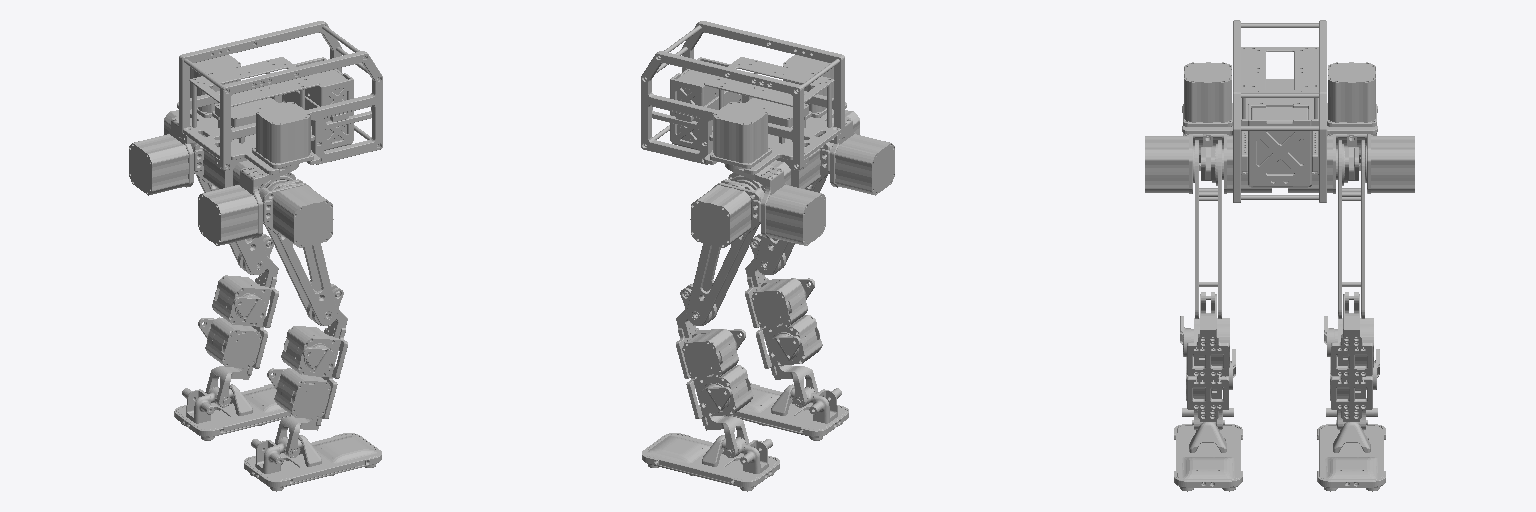
robot.urdf — pai_12dof_v2_0312:
<?xml version="1.0" encoding="utf-8"?>
<!-- This URDF was automatically created by SolidWorks to URDF Exporter! Originally created by [author] ([email redacted]) 
     Commit Version: 1.6.0-4-g7f85cfe  Build Version: 1.6.7995.38578
     For more information, please see http://wiki.ros.org/sw_urdf_exporter -->
<robot
  name="pai_12dof_v2_0312">
  <mujoco>
  <compiler 
    meshdir="../meshes/" 
    balanceinertia="true" 
    discardvisual="false" />
  </mujoco>
  <link
    name="base_link">
    <inertial>
      <origin
        xyz="0.036389 -1.95E-05 0.0235966"
        rpy="0 0 0" />
      <mass
        value="1.4140796" />
      <inertia
        ixx="0.0052145"
        ixy="3.8E-06"
        ixz="0.0003997"
        iyy="0.0041695"
        iyz="6E-07"
        izz="0.007904" />
    </inertial>
    <visual>
      <origin
        xyz="0 0 0"
        rpy="0 0 0" />
      <geometry>
        <mesh
          filename="../meshes/base_link.STL" />
      </geometry>
      <material
        name="">
        <color
          rgba="0.75294 0.75294 0.75294 1" />
      </material>
    </visual>
    <collision>
      <origin
        xyz="0 0 0"
        rpy="0 0 0" />
      <geometry>
        <box size = "0.08 0.08 0.08"/>
      </geometry>
    </collision>
  </link>
  <link
    name="l_hip_yaw_link">
    <inertial>
      <origin
        xyz="-0.0578492 0 -0.0416749"
        rpy="0 0 0" />
      <mass
        value="0.19436" />
      <inertia
        ixx="0.0002521"
        ixy="0"
        ixz="-0.0001456"
        iyy="0.0004324"
        iyz="0"
        izz="0.0003133" />
    </inertial>
    <visual>
      <origin
        xyz="0 0 0"
        rpy="0 0 0" />
      <geometry>
        <mesh
          filename="../meshes/l_hip_yaw_link.STL" />
      </geometry>
      <material
        name="">
        <color
          rgba="0.75294 0.75294 0.75294 1" />
      </material>
    </visual>
    <collision>
      <origin
        xyz="0 0 0"
        rpy="0 0 0" />
      <geometry>
        <box size = "0.01 0.01 0.01"/>
      </geometry>
    </collision>
  </link>
  <joint
    name="left_hip_yaw_joint"
    type="revolute">
    <origin
      xyz="0 0.075 0"
      rpy="0 0 0" />
    <parent
      link="base_link" />
    <child
      link="l_hip_yaw_link" />
    <axis
      xyz="0 0 1" />
    <limit
      lower="-0.6"
      upper="1.57"
      effort="21"
      velocity="21" />
  </joint>
  <link
    name="l_hip_roll_link">
    <inertial>
      <origin
        xyz="0.0373373 -0.0004323 0.0004287"
        rpy="0 0 0" />
      <mass
        value="0.74952" />
      <inertia
        ixx="0.0013819"
        ixy="-1.6E-06"
        ixz="5.4E-06"
        iyy="0.0003384"
        iyz="2E-07"
        izz="0.0014434" />
    </inertial>
    <visual>
      <origin
        xyz="0 0 0"
        rpy="0 0 0" />
      <geometry>
        <mesh
          filename="../meshes/l_hip_roll_link.STL" />
      </geometry>
      <material
        name="">
        <color
          rgba="0.75294 0.75294 0.75294 1" />
      </material>
    </visual>
    <collision>
      <origin
        xyz="0 0 0"
        rpy="0 0 0" />
      <geometry>
        <box size = "0.01 0.01 0.01"/>
      </geometry>
    </collision>
  </link>
  <joint
    name="left_hip_roll_joint"
    type="revolute">
    <origin
      xyz="-0.04 0 -0.05"
      rpy="0 0 0" />
    <parent
      link="l_hip_yaw_link" />
    <child
      link="l_hip_roll_link" />
    <axis
      xyz="1 0 0" />
    <limit
      lower="-0.5"
      upper="1.0"
      effort="21"
      velocity="21" />
  </joint>
  <link
    name="l_thigh_link">
    <inertial>
      <origin
        xyz="0.004364 0.0013366 -0.046554"
        rpy="0 0 0" />
      <mass
        value="0.1443603" />
      <inertia
        ixx="0.0004365"
        ixy="8E-07"
        ixz="3.66E-05"
        iyy="0.0004422"
        iyz="-9E-06"
        izz="4.91E-05" />
    </inertial>
    <visual>
      <origin
        xyz="0 0 0"
        rpy="0 0 0" />
      <geometry>
        <mesh
          filename="../meshes/l_thigh_link.STL" />
      </geometry>
      <material
        name="">
        <color
          rgba="0.75294 0.75294 0.75294 1" />
      </material>
    </visual>
    <collision>
      <origin
        xyz="0 0 0"
        rpy="0 0 0" />
      <geometry>
        <box size = "0.01 0.01 0.01"/>
      </geometry>
    </collision>
  </link>
  <joint
    name="left_hip_pitch_joint"
    type="revolute">
    <origin
      xyz="0.04 0 0"
      rpy="0 -0.235 0" />
    <parent
      link="l_hip_roll_link" />
    <child
      link="l_thigh_link" />
    <axis
      xyz="0 1 0" />
    <limit
      lower="-1.57"
      upper="0.8"
      effort="21"
      velocity="21" />
  </joint>
  <link
    name="l_calf_link">
    <inertial>
      <origin
        xyz="0.0035389 0 -0.07142"
        rpy="0 0 0" />
      <mass
        value="0.768122" />
      <inertia
        ixx="0.0010371"
        ixy="0"
        ixz="-9.4E-06"
        iyy="0.0010674"
        iyz="-3.3E-06"
        izz="0.0002151" />
    </inertial>
    <visual>
      <origin
        xyz="0 0 0"
        rpy="0 0 0" />
      <geometry>
        <mesh
          filename="../meshes/l_calf_link.STL" />
      </geometry>
      <material
        name="">
        <color
          rgba="0.75294 0.75294 0.75294 1" />
      </material>
    </visual>
    <collision>
      <origin
        xyz="0 0 0"
        rpy="0 0 0" />
      <geometry>
        <box size = "0.01 0.01 0.01"/>
      </geometry>
    </collision>
  </link>
  <joint
    name="left_knee_joint"
    type="revolute">
    <origin
      xyz="0.014 0 -0.14935"
      rpy="0 0.526 0" />
    <parent
      link="l_thigh_link" />
    <child
      link="l_calf_link" />
    <axis
      xyz="0 -1 0" />
    <limit
      lower="-1.57"
      upper="0.526"
      effort="21"
      velocity="21" />
  </joint>
  <link
    name="l_ankle_pitch_link">
    <inertial>
      <origin
        xyz="0 0 0"
        rpy="0 0 0" />
      <mass
        value="0.0088647" />
      <inertia
        ixx="2E-07"
        ixy="0"
        ixz="0"
        iyy="1E-06"
        iyz="0"
        izz="1E-06" />
    </inertial>
    <visual>
      <origin
        xyz="0 0 0"
        rpy="0 0 0" />
      <geometry>
        <mesh
          filename="../meshes/l_ankle_pitch_link.STL" />
      </geometry>
      <material
        name="">
        <color
          rgba="0.75294 0.75294 0.75294 1" />
      </material>
    </visual>
    <collision>
      <origin
        xyz="0 0 0"
        rpy="0 0 0" />
      <geometry>
        <box size = "0.01 0.01 0.01"/>
      </geometry>
    </collision>
  </link>
  <joint
    name="left_ankle_pitch_joint"
    type="revolute">
    <origin
      xyz="0.0025 0 -0.15845"
      rpy="0 -0.298 0" />
    <parent
      link="l_calf_link" />
    <child
      link="l_ankle_pitch_link" />
    <axis
      xyz="0 1 0" />
    <limit
      lower="-1.2"
      upper="0.8"
      effort="21"
      velocity="21" />
  </joint>
  <link
    name="l_ankle_roll_link">
    <inertial>
      <origin
        xyz="0.0240775 0 -0.018709"
        rpy="0 0 0" />
      <mass
        value="0.1728932" />
      <inertia
        ixx="7.78E-05"
        ixy="0"
        ixz="2.11E-05"
        iyy="0.0003287"
        iyz="0"
        izz="0.0003779" />
    </inertial>
    <visual>
      <origin
        xyz="0 0 0"
        rpy="0 0 0" />
      <geometry>
        <mesh
          filename="../meshes/l_ankle_roll_link.STL" />
      </geometry>
      <material
        name="">
        <color
          rgba="0.75294 0.75294 0.75294 1" />
      </material>
    </visual>
    <collision>
      <origin
        xyz="0 0 0"
        rpy="0 0 0" />
      <geometry>
        <mesh
          filename="../meshes/l_ankle_roll_link.STL" />
      </geometry>
    </collision>
  </link>
  <joint
    name="left_ankle_roll_joint"
    type="revolute">
    <origin
      xyz="0 0 0"
      rpy="0 0 0" />
    <parent
      link="l_ankle_pitch_link" />
    <child
      link="l_ankle_roll_link" />
    <axis
      xyz="1 0 0" />
    <limit
      lower="-0.4"
      upper="0.4"
      effort="21"
      velocity="21" />
  </joint>
  <link
    name="r_hip_yaw_link">
    <inertial>
      <origin
        xyz="-0.0578492 0 -0.0416749"
        rpy="0 0 0" />
      <mass
        value="0.3887654" />
      <inertia
        ixx="0.0002521"
        ixy="0"
        ixz="-0.0001456"
        iyy="0.0004324"
        iyz="0"
        izz="0.0003133" />
    </inertial>
    <visual>
      <origin
        xyz="0 0 0"
        rpy="0 0 0" />
      <geometry>
        <mesh
          filename="../meshes/r_hip_yaw_link.STL" />
      </geometry>
      <material
        name="">
        <color
          rgba="0.75294 0.75294 0.75294 1" />
      </material>
    </visual>
    <collision>
      <origin
        xyz="0 0 0"
        rpy="0 0 0" />
      <geometry>
        <box size = "0.01 0.01 0.01"/>
      </geometry>
    </collision>
  </link>
  <joint
    name="right_hip_yaw_joint"
    type="revolute">
    <origin
      xyz="0 -0.075 0"
      rpy="0 0 0" />
    <parent
      link="base_link" />
    <child
      link="r_hip_yaw_link" />
    <axis
      xyz="0 0 1" />
    <limit
      lower="-1.6"
      upper="0.75"
      effort="21"
      velocity="21" />
  </joint>
  <link
    name="r_hip_roll_link">
    <inertial>
      <origin
        xyz="0.0373373 0.0004272 0.0004287"
        rpy="0 0 0" />
      <mass
        value="0.7495221" />
      <inertia
        ixx="0.0013819"
        ixy="-3E-06"
        ixz="5.4E-06"
        iyy="0.0003384"
        iyz="6E-07"
        izz="0.0014434" />
    </inertial>
    <visual>
      <origin
        xyz="0 0 0"
        rpy="0 0 0" />
      <geometry>
        <mesh
          filename="../meshes/r_hip_roll_link.STL" />
      </geometry>
      <material
        name="">
        <color
          rgba="0.75294 0.75294 0.75294 1" />
      </material>
    </visual>
    <collision>
      <origin
        xyz="0 0 0"
        rpy="0 0 0" />
      <geometry>
        <box size = "0.01 0.01 0.01"/>
      </geometry>
    </collision>
  </link>
  <joint
    name="right_hip_roll_joint"
    type="revolute">
    <origin
      xyz="-0.04 0 -0.05"
      rpy="0 0 0" />
    <parent
      link="r_hip_yaw_link" />
    <child
      link="r_hip_roll_link" />
    <axis
      xyz="1 0 0" />
    <limit
      lower="-1.0"
      upper="0.5"
      effort="21"
      velocity="21" />
  </joint>
  <link
    name="r_thigh_link">
    <inertial>
      <origin
        xyz="0.004364 -0.0013366 -0.0465535"
        rpy="0 0 0" />
      <mass
        value="0.1443603" />
      <inertia
        ixx="0.0004365"
        ixy="-8E-07"
        ixz="3.66E-05"
        iyy="0.0004422"
        iyz="9E-06"
        izz="4.91E-05" />
    </inertial>
    <visual>
      <origin
        xyz="0 0 0"
        rpy="0 0 0" />
      <geometry>
        <mesh
          filename="../meshes/r_thigh_link.STL" />
      </geometry>
      <material
        name="">
        <color
          rgba="0.75294 0.75294 0.75294 1" />
      </material>
    </visual>
    <collision>
      <origin
        xyz="0 0 0"
        rpy="0 0 0" />
      <geometry>
        <box size = "0.01 0.01 0.01"/>
      </geometry>
    </collision>
  </link>
  <joint
    name="right_hip_pitch_joint"
    type="revolute">
    <origin
      xyz="0.04 0 0"
      rpy="0 -0.235 0" />
    <parent
      link="r_hip_roll_link" />
    <child
      link="r_thigh_link" />
    <axis
      xyz="0 -1 0" />
    <limit
      lower="-0.8"
      upper="1.57"
      effort="21"
      velocity="21" />
  </joint>
  <link
    name="r_calf_link">
    <inertial>
      <origin
        xyz="0.0035389 0 -0.0714471"
        rpy="0 0 0" />
      <mass
        value="0.768122" />
      <inertia
        ixx="0.0010371"
        ixy="0"
        ixz="-9.4E-06"
        iyy="0.0010674"
        iyz="-3.3E-06"
        izz="0.0002151" />
    </inertial>
    <visual>
      <origin
        xyz="0 0 0"
        rpy="0 0 0" />
      <geometry>
        <mesh
          filename="../meshes/r_calf_link.STL" />
      </geometry>
      <material
        name="">
        <color
          rgba="0.75294 0.75294 0.75294 1" />
      </material>
    </visual>
    <collision>
      <origin
        xyz="0 0 0"
        rpy="0 0 0" />
      <geometry>
        <box size = "0.01 0.01 0.01"/>
      </geometry>
    </collision>
  </link>
  <joint
    name="right_knee_joint"
    type="revolute">
    <origin
      xyz="0.014 0 -0.14935"
      rpy="0 0.526 0" />
    <parent
      link="r_thigh_link" />
    <child
      link="r_calf_link" />
    <axis
      xyz="0 1 0" />
    <limit
      lower="-0.526"
      upper="1.57"
      effort="21"
      velocity="21" />
  </joint>
  <link
    name="r_ankle_pitch_link">
    <inertial>
      <origin
        xyz="0 0 0"
        rpy="0 0 0" />
      <mass
        value="0.0088647" />
      <inertia
        ixx="2E-07"
        ixy="0"
        ixz="0"
        iyy="1E-06"
        iyz="0"
        izz="1E-06" />
    </inertial>
    <visual>
      <origin
        xyz="0 0 0"
        rpy="0 0 0" />
      <geometry>
        <mesh
          filename="../meshes/r_ankle_pitch_link.STL" />
      </geometry>
      <material
        name="">
        <color
          rgba="0.75294 0.75294 0.75294 1" />
      </material>
    </visual>
    <collision>
      <origin
        xyz="0 0 0"
        rpy="0 0 0" />
      <geometry>
        <box size = "0.01 0.01 0.01"/>
      </geometry>
    </collision>
  </link>
  <joint
    name="right_ankle_pitch_joint"
    type="revolute">
    <origin
      xyz="0.0025 0 -0.15845"
      rpy="0 -0.298 0" />
    <parent
      link="r_calf_link" />
    <child
      link="r_ankle_pitch_link" />
    <axis
      xyz="0 -1 0" />
    <limit
      lower="-0.95"
      upper="1.2"
      effort="21"
      velocity="21" />
  </joint>
  <link
    name="r_ankle_roll_link">
    <inertial>
      <origin
        xyz="0.0240775 0 -0.018709"
        rpy="0 0 0" />
      <mass
        value="0.1728932" />
      <inertia
        ixx="7.78E-05"
        ixy="0"
        ixz="2.11E-05"
        iyy="0.0003287"
        iyz="0"
        izz="0.0003779" />
    </inertial>
    <visual>
      <origin
        xyz="0 0 0"
        rpy="0 0 0" />
      <geometry>
        <mesh
          filename="../meshes/r_ankle_roll_link.STL" />
      </geometry>
      <material
        name="">
        <color
          rgba="0.75294 0.75294 0.75294 1" />
      </material>
    </visual>
    <collision>
      <origin
        xyz="0 0 0"
        rpy="0 0 0" />
      <geometry>
        <mesh
          filename="../meshes/r_ankle_roll_link.STL" />
      </geometry>
    </collision>
  </link>
  <joint
    name="right_ankle_roll_joint"
    type="revolute">
    <origin
      xyz="0 0 0"
      rpy="0 0 0" />
    <parent
      link="r_ankle_pitch_link" />
    <child
      link="r_ankle_roll_link" />
    <axis
      xyz="1 0 0" />
    <limit
      lower="-0.4"
      upper="0.4"
      effort="21"
      velocity="21" />
  </joint>
  
</robot>

--- Facts derived from the render (not from the file) ---
3 views of the same robot in one strip: view 1: azimuth 30°, elevation 25°; view 2: azimuth 150°, elevation 25°; view 3: azimuth 270°, elevation 25° (orthographic).
Robot: pai_12dof_v2_0312 — 13 links, 12 joints (12 revolute); root link base_link; default pose: all joints at 0.
Visible links, largest first — view 1: base_link, r_calf_link, l_calf_link, r_ankle_roll_link, r_hip_yaw_link, r_hip_roll_link, l_ankle_roll_link, l_hip_yaw_link, r_thigh_link, l_hip_roll_link, l_thigh_link; view 2: base_link, l_calf_link, r_calf_link, l_ankle_roll_link, l_hip_yaw_link, l_hip_roll_link, r_ankle_roll_link, r_hip_yaw_link, l_thigh_link, r_hip_roll_link, r_thigh_link; view 3: base_link, r_calf_link, l_calf_link, l_hip_roll_link, r_hip_roll_link, r_ankle_roll_link, l_ankle_roll_link, l_thigh_link, r_thigh_link.
Boxes of the visible links, x1,y1,x2,y2 form: base_link: [177, 21, 382, 174]; r_calf_link: [267, 284, 347, 457]; l_calf_link: [198, 234, 278, 407]; r_ankle_roll_link: [244, 433, 381, 491]; r_hip_yaw_link: [198, 163, 299, 245]; r_hip_roll_link: [233, 160, 333, 247]; l_ankle_roll_link: [174, 384, 291, 440]; l_hip_yaw_link: [129, 117, 193, 195]; r_thigh_link: [259, 175, 337, 325]; l_hip_roll_link: [164, 110, 247, 188]; l_thigh_link: [196, 134, 267, 274]; base_link: [641, 21, 846, 174]; l_calf_link: [676, 284, 753, 457]; r_calf_link: [745, 234, 822, 407]; l_ankle_roll_link: [642, 433, 779, 491]; l_hip_yaw_link: [724, 163, 825, 245]; l_hip_roll_link: [690, 160, 790, 247]; r_ankle_roll_link: [723, 383, 848, 440]; r_hip_yaw_link: [830, 117, 894, 195]; l_thigh_link: [686, 175, 764, 325]; r_hip_roll_link: [776, 110, 859, 188]; r_thigh_link: [756, 134, 827, 274]; base_link: [1182, 20, 1377, 202]; r_calf_link: [1180, 292, 1235, 429]; l_calf_link: [1324, 292, 1379, 429]; l_hip_roll_link: [1288, 134, 1414, 193]; r_hip_roll_link: [1145, 134, 1271, 193]; r_ankle_roll_link: [1174, 408, 1242, 491]; l_ankle_roll_link: [1317, 408, 1385, 491]; l_thigh_link: [1338, 140, 1366, 318]; r_thigh_link: [1193, 140, 1221, 318].
Bounding box of the posed robot: 0.2326 × 0.2824 × 0.4691 m (x, y, z).
Meshes: 13 distinct files referenced, 13 mesh visuals loaded (13 binary STL).